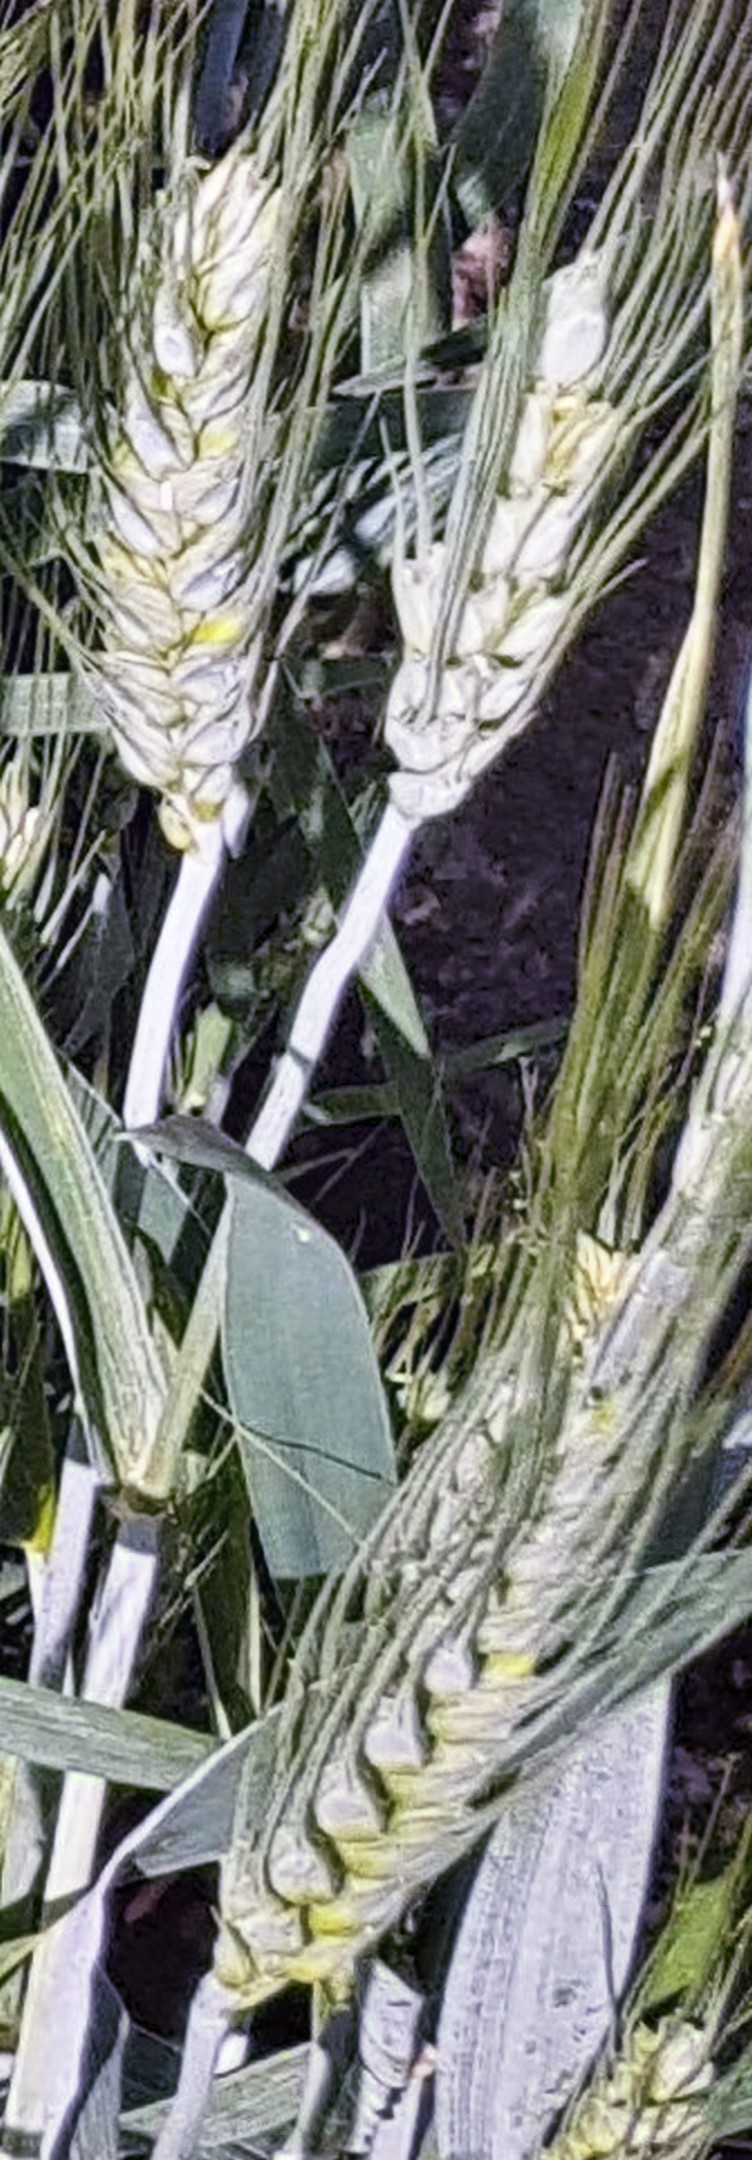Healthy Wheat: (224, 1420, 654, 2002), (59, 136, 375, 849)
